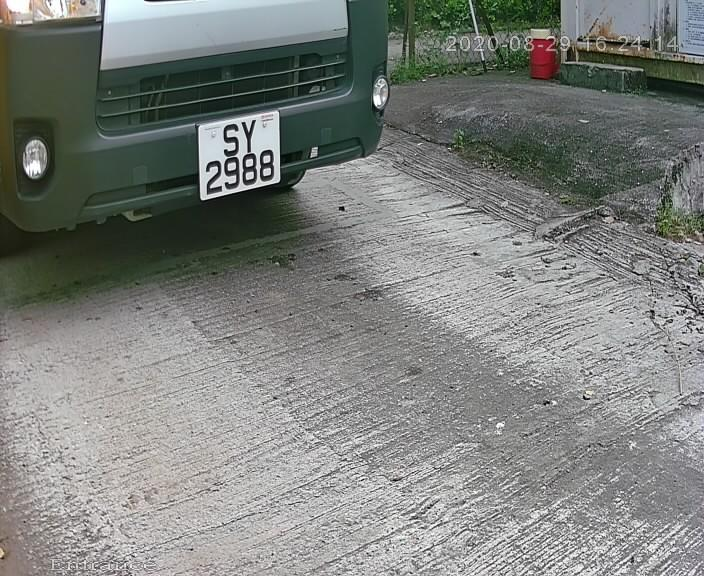License Plate: (186, 106, 293, 206)
